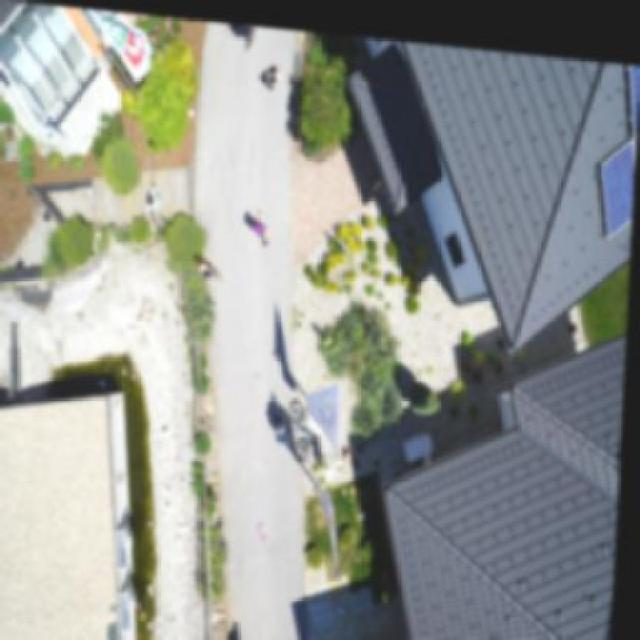Person: (245, 198, 280, 251), (186, 247, 234, 281), (139, 176, 167, 218), (258, 53, 288, 87)
